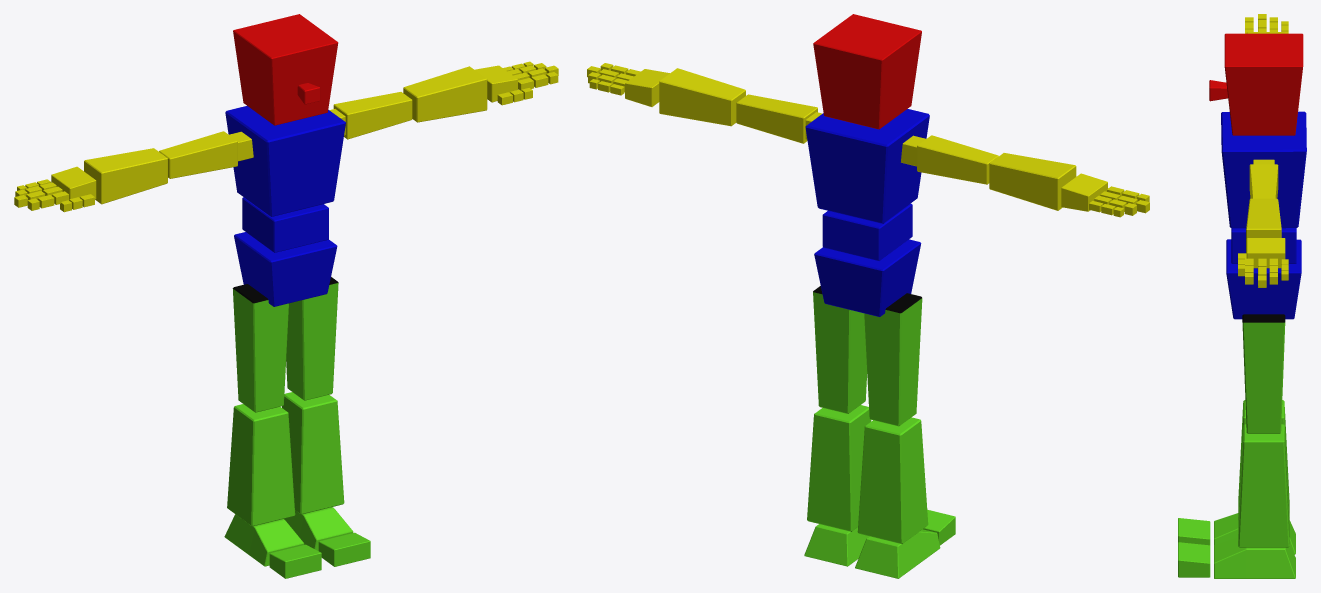
3 renders of one model, left to right at view 1: azimuth 30°, elevation 25°; view 2: azimuth 150°, elevation 25°; view 3: azimuth 270°, elevation 25°, orthographic. The views are drawn at different scales.
Parts seen in each view (by area): view 1: Mox_mesh; view 2: Mox_mesh; view 3: Mox_mesh.
Boxes of the visible parts, x1,y1,x2,y2 form: Mox_mesh: [14, 14, 558, 578]; Mox_mesh: [587, 14, 1149, 578]; Mox_mesh: [1178, 14, 1306, 578].
Bounding box in the file's own units: 206 × 183 × 42.04.
